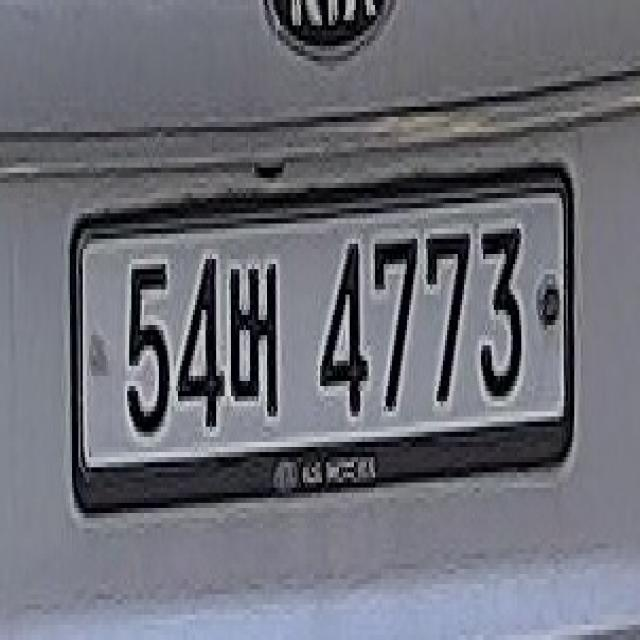3: (477, 198, 542, 406)
4: (318, 208, 373, 447), (178, 229, 227, 457)
5: (119, 213, 178, 462)
7: (418, 208, 474, 427), (369, 223, 424, 437)
beo: (223, 244, 286, 432)
license_plate: (68, 157, 585, 544)
